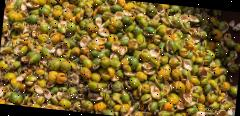organic: (38, 41, 57, 60), (91, 24, 110, 40), (126, 76, 145, 91), (103, 66, 118, 82)
